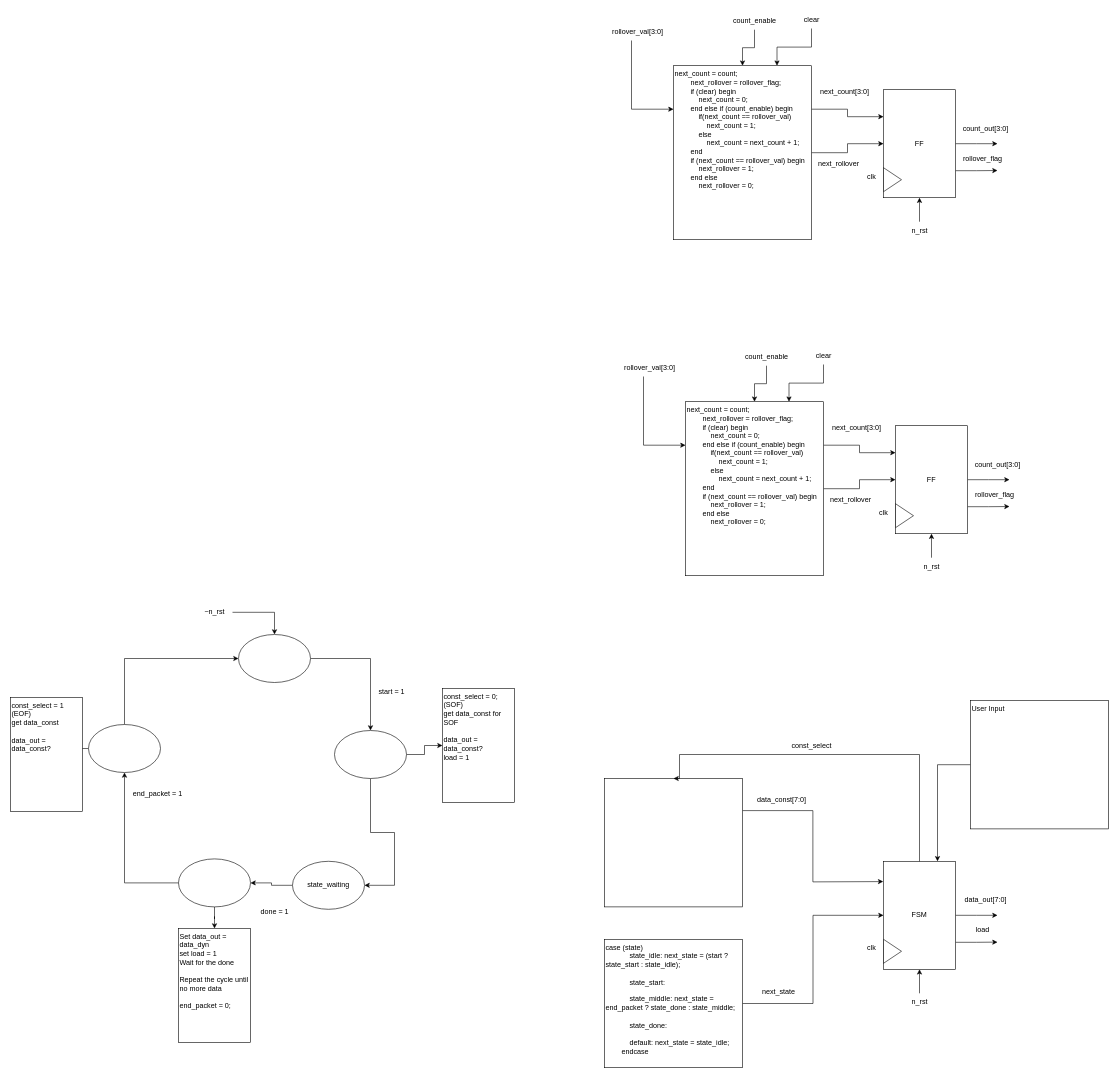
Some shapes in this 1119 by 1078 pixel diagram are drawn without their labels. The shapes that lost their labels are listed below. From the top down, each one's centre as x and y in pixels, then its label:
At point (274, 658): "state_idle".
At point (124, 748): "state_done".
At point (370, 754): "state_start".
At point (673, 842): "if (const_select) data_const = 8'hAA; else data_const = 8'hBB;".
At point (214, 882): "state_middle".
